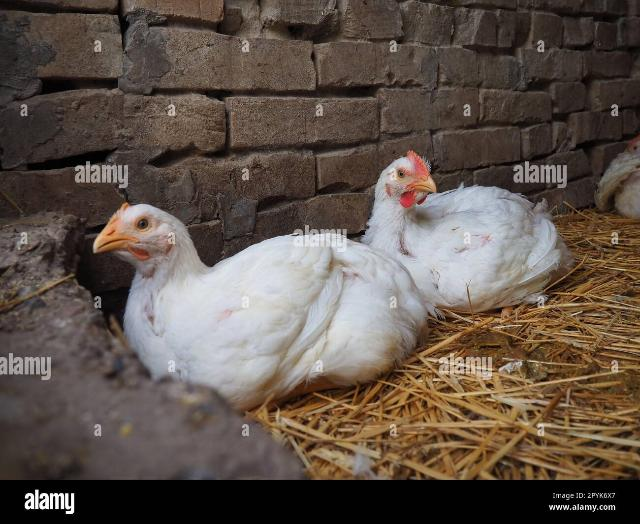Chicken: (90, 198, 432, 418), (366, 153, 572, 316)
